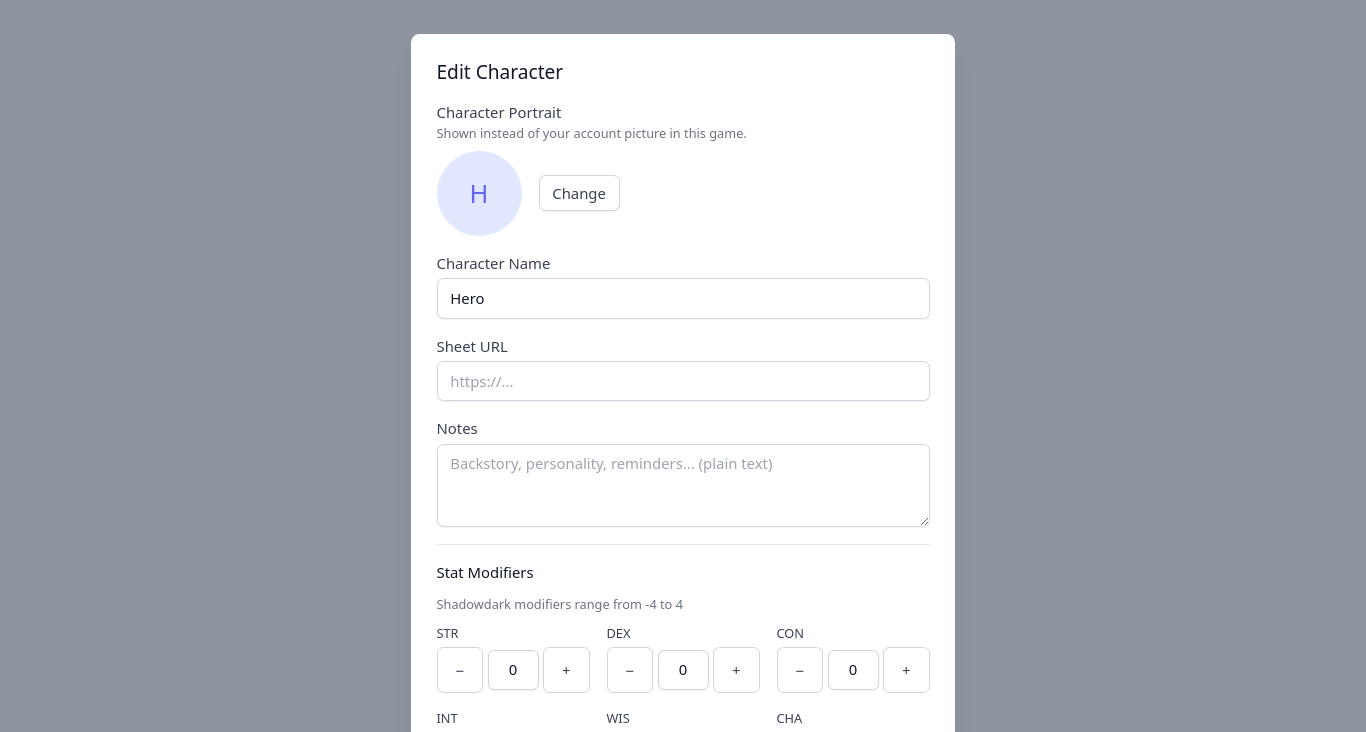
Scenario: EditCharacterModal › flags out-of-range input in red and blocks save
Replace the text in the field labelled "STR" with "16": (513, 670) x1=488 y1=650 x2=538 y2=690
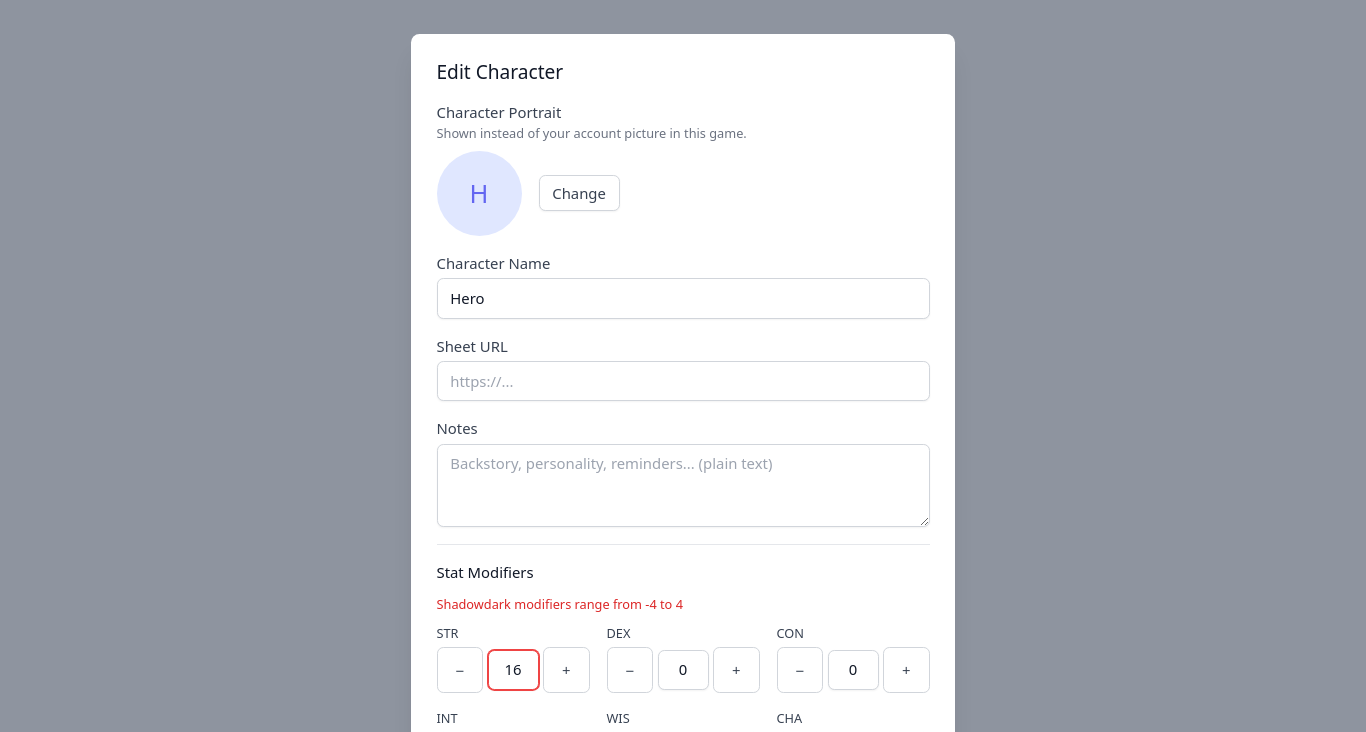
Expected: the field labelled "STR" is marked as invalid
Expected: the field labelled "STR" has class "border-red-500"
Expected: the text "Shadowdark modifiers range from -4 to 4" has class "text-red-600", x1=436 y1=595 x2=683 y2=613
Replace the text in the field labelled "STR" with "-2": (513, 670) x1=488 y1=650 x2=538 y2=690
(page scrolled)
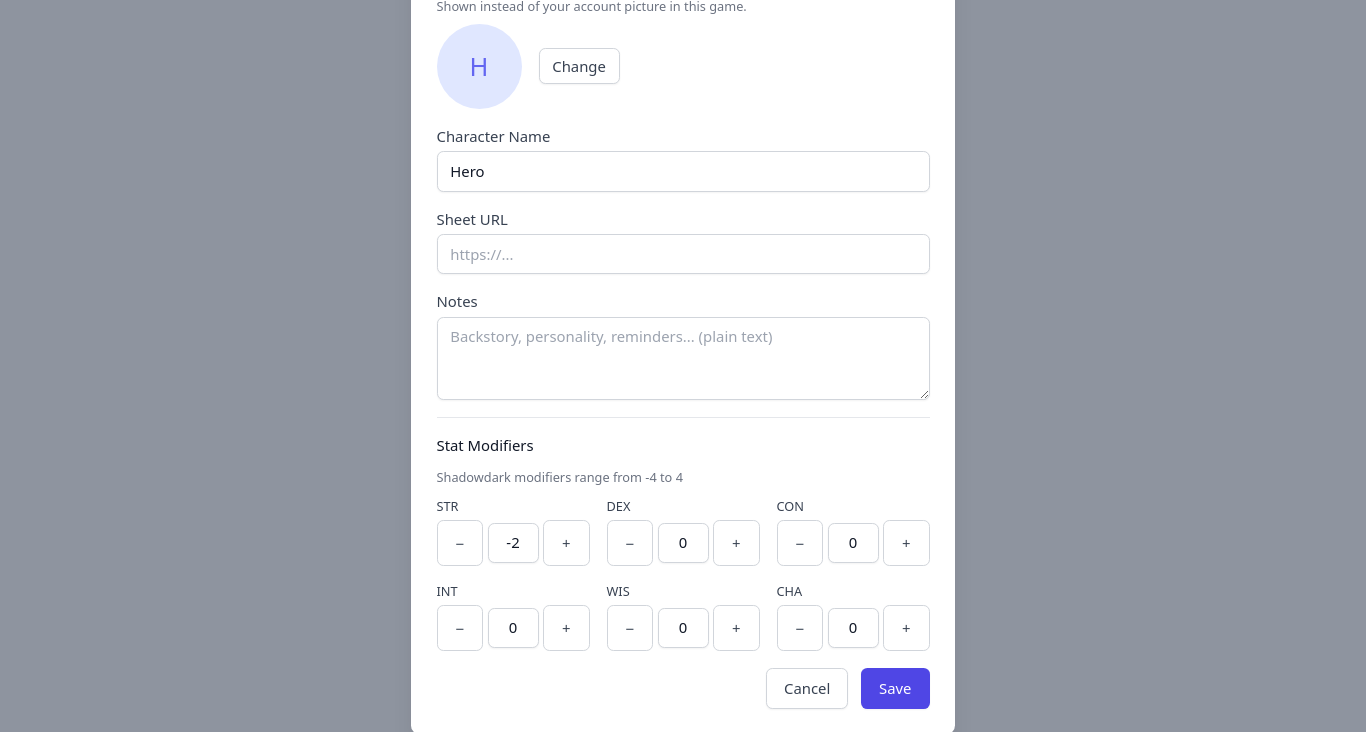
Expected: the button "Save" is enabled, x1=861 y1=668 x2=930 y2=709
